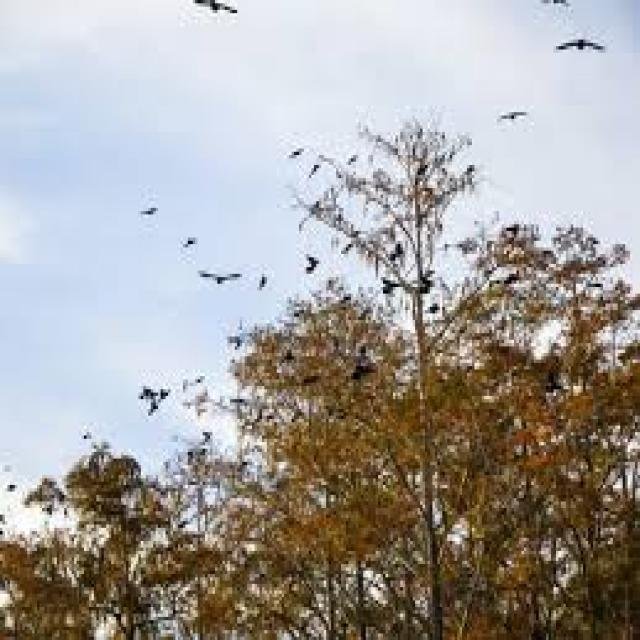bird: (371, 267, 417, 310), (553, 32, 613, 64), (137, 378, 179, 422), (349, 350, 385, 389), (498, 108, 548, 136), (201, 255, 246, 282), (296, 240, 326, 280), (188, 0, 242, 20), (135, 198, 157, 228), (178, 224, 195, 254)
